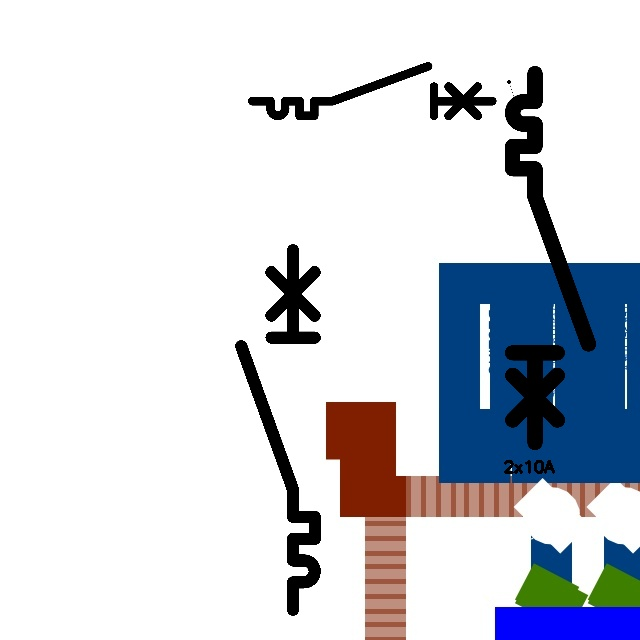interruptor_termomagnetico: (503, 64, 598, 452), (232, 241, 324, 619), (246, 60, 499, 122)
